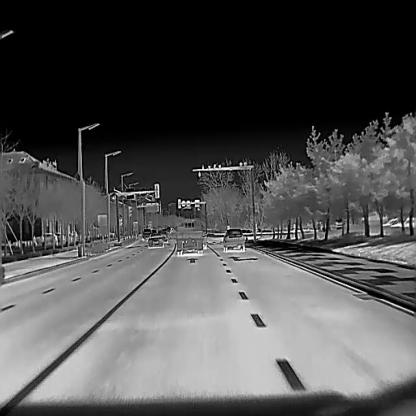car: (222, 228, 244, 251), (148, 232, 162, 246), (141, 227, 150, 239)
truck: (175, 219, 203, 255)
